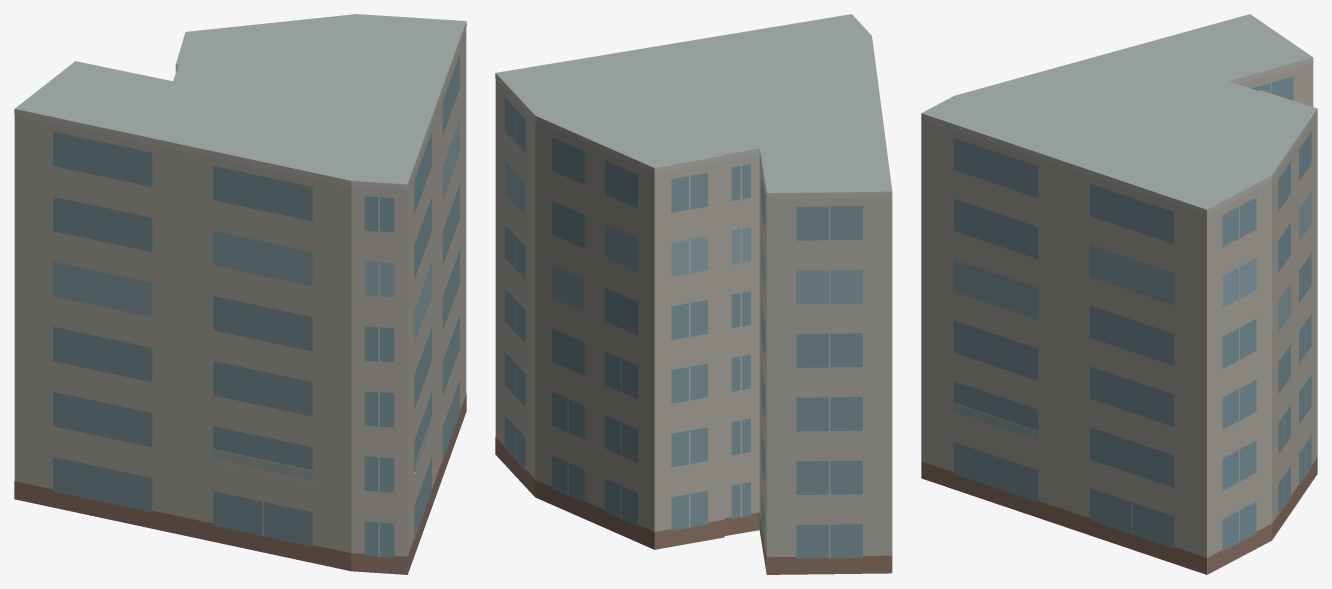
Rendered from survey-upis-33042144.glb.
The picture shows the model from 3 angles, left to right: view 1: azimuth 30°, elevation 25°; view 2: azimuth 150°, elevation 25°; view 3: azimuth 270°, elevation 25°; orthographic projection. The views are drawn at different scales.
Parts seen in each view (by area): view 1: survey-upis-33042144.tmp; view 2: survey-upis-33042144.tmp; view 3: survey-upis-33042144.tmp.
Boxes of the visible parts, <box> form: survey-upis-33042144.tmp: <box>14,14,466,574</box>; survey-upis-33042144.tmp: <box>495,14,892,574</box>; survey-upis-33042144.tmp: <box>921,14,1317,574</box>.
Bounding box in the file's own units: 18.87 × 16.4 × 16.15.
